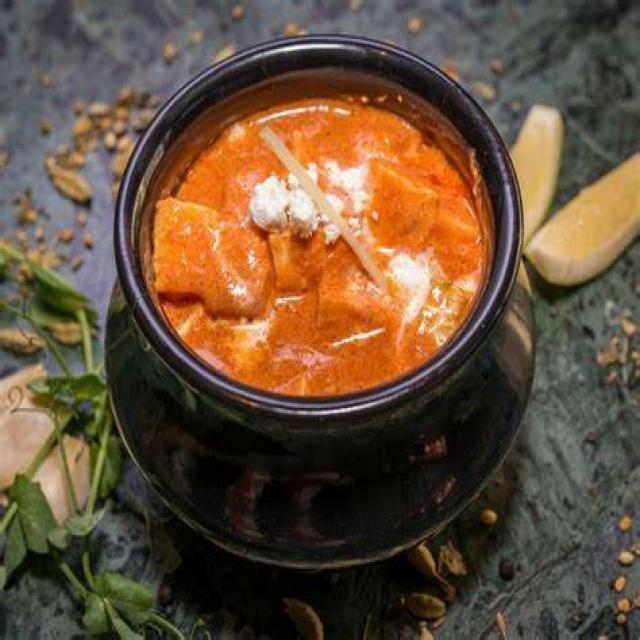ShahiPaneer: (148, 89, 482, 400)
